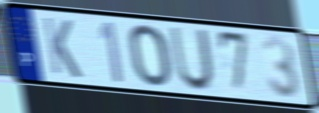1: (98, 20, 124, 85)
3: (262, 33, 300, 102)
7: (216, 28, 251, 98)
K: (40, 15, 84, 81)
O: (127, 23, 173, 89)
U: (168, 25, 216, 93)
